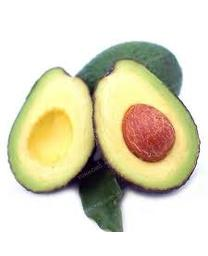avocado: (92, 56, 201, 196), (6, 65, 97, 195)
